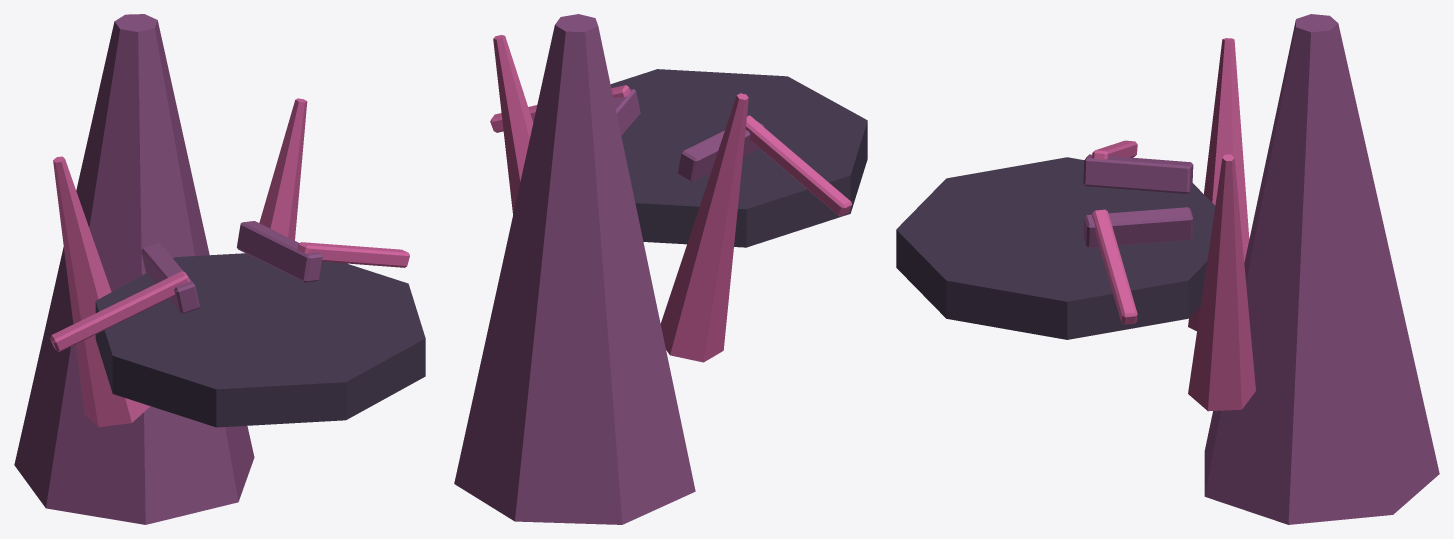
File: HiveObelisk.fbx
3 views of the same model, side by side, from view 1: azimuth 30°, elevation 25°; view 2: azimuth 150°, elevation 25°; view 3: azimuth 270°, elevation 25° (orthographic).
Visible parts, largest first — view 1: ObeliskBody, ObeliskBase, ObeliskSpineLeft, ObeliskSpineRight, ObeliskShard.001, ObeliskTendril, ObeliskTendril.001, ObeliskShard; view 2: ObeliskBody, ObeliskBase, ObeliskSpineLeft, ObeliskSpineRight, ObeliskTendril, ObeliskShard, ObeliskShard.001, ObeliskTendril.001; view 3: ObeliskBody, ObeliskBase, ObeliskSpineRight, ObeliskSpineLeft, ObeliskShard, ObeliskShard.001, ObeliskTendril.001, ObeliskTendril.
Part boxes in pixels (x1,y1,x2,y2): ObeliskBody: [14, 14, 254, 524]; ObeliskBase: [95, 253, 425, 427]; ObeliskSpineLeft: [53, 156, 150, 427]; ObeliskSpineRight: [259, 98, 307, 240]; ObeliskShard.001: [237, 221, 322, 282]; ObeliskTendril: [50, 271, 189, 351]; ObeliskTendril.001: [297, 242, 409, 267]; ObeliskShard: [141, 243, 199, 313]; ObeliskBody: [454, 14, 695, 524]; ObeliskBase: [610, 69, 867, 247]; ObeliskSpineLeft: [660, 93, 748, 362]; ObeliskSpineRight: [493, 35, 533, 214]; ObeliskTendril: [745, 115, 851, 216]; ObeliskShard: [678, 122, 764, 182]; ObeliskShard.001: [613, 89, 640, 135]; ObeliskTendril.001: [490, 85, 630, 132]; ObeliskBody: [1204, 14, 1439, 524]; ObeliskBase: [896, 157, 1215, 339]; ObeliskSpineRight: [1188, 154, 1255, 411]; ObeliskSpineLeft: [1188, 38, 1249, 331]; ObeliskShard: [1083, 154, 1193, 193]; ObeliskShard.001: [1083, 207, 1193, 247]; ObeliskTendril.001: [1092, 209, 1137, 324]; ObeliskTendril: [1092, 140, 1137, 159].
Bounding box in the file's own units: 314 × 378 × 413.
